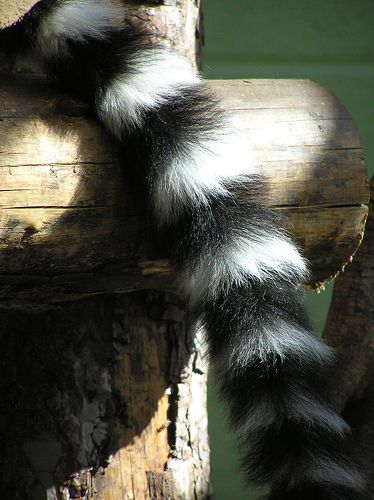cat: (16, 0, 372, 497)
